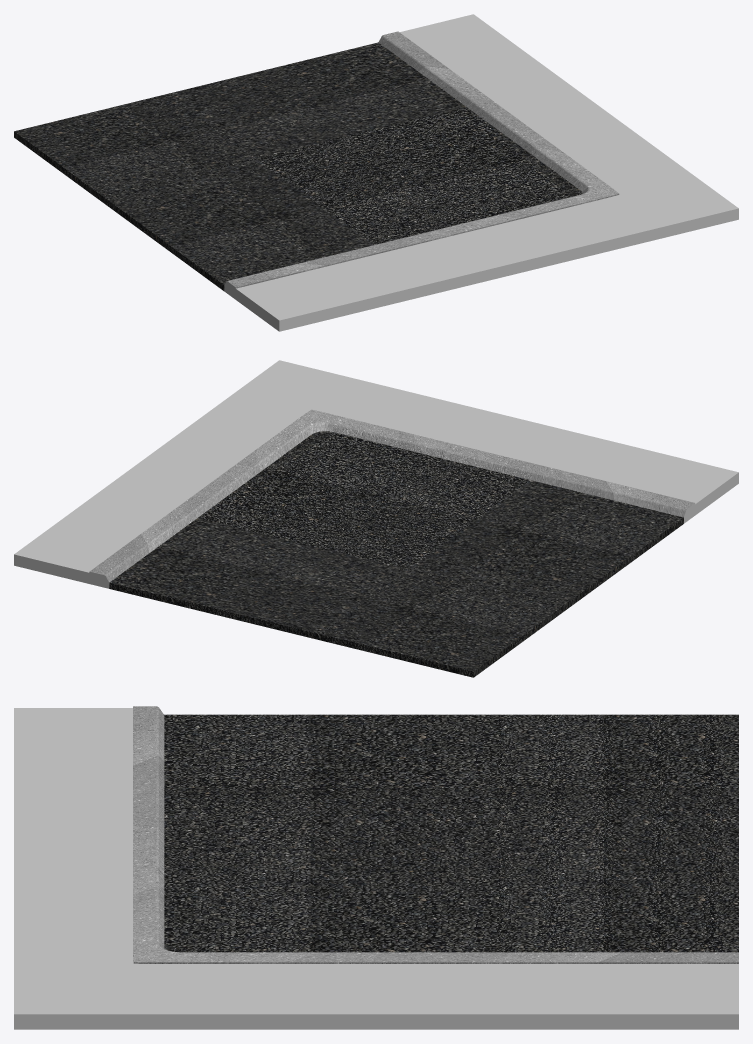
The model's file is tile9.fbx.
3 renders of one model, top to bottom at view 1: azimuth 30°, elevation 25°; view 2: azimuth 150°, elevation 25°; view 3: azimuth 270°, elevation 25°, orthographic. The views are drawn at different scales.
Parts seen in each view (by area): view 1: Cube; view 2: Cube; view 3: Cube.
Boxes of the visible parts, x1,y1,x2,y2 form: Cube: [14, 14, 738, 331]; Cube: [14, 360, 738, 677]; Cube: [14, 706, 738, 1029].
Size of the model in its own units: 600 by 15.53 by 600.
